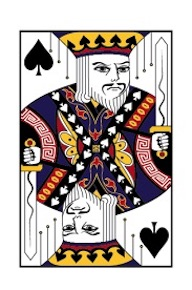KingOfSpades: (5, 19, 181, 273)
